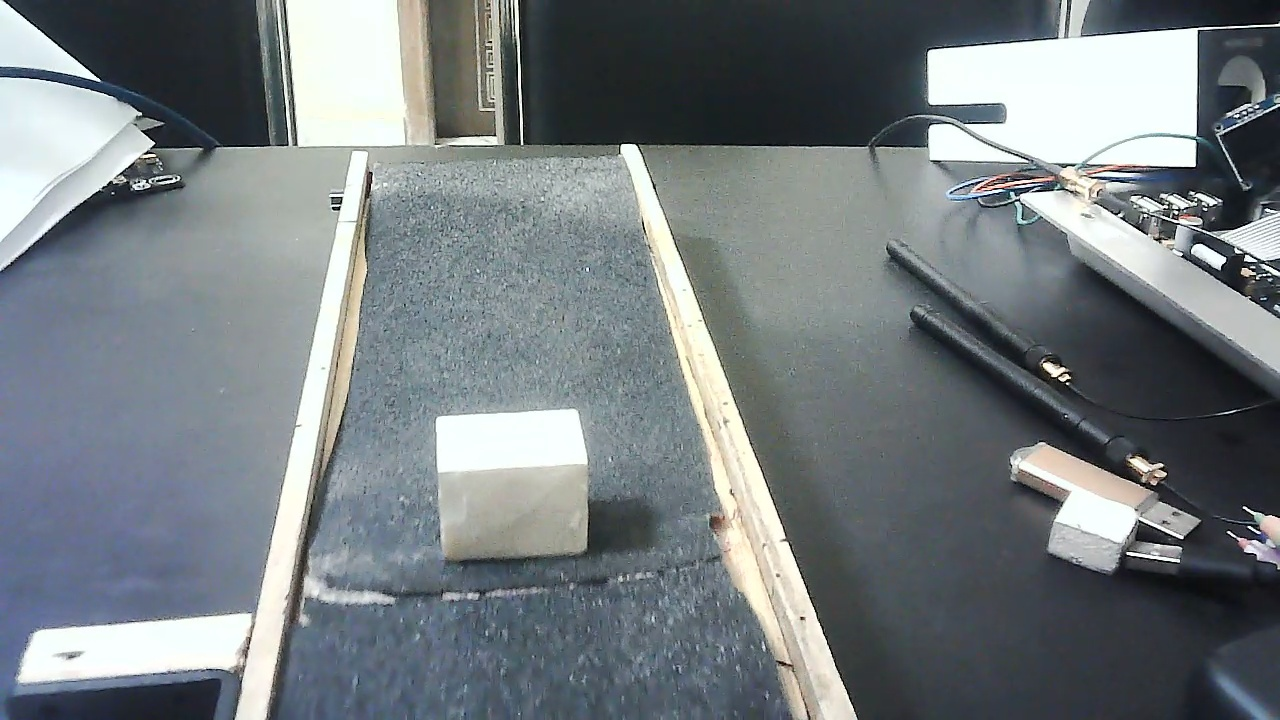Medium: (435, 408, 589, 562)
